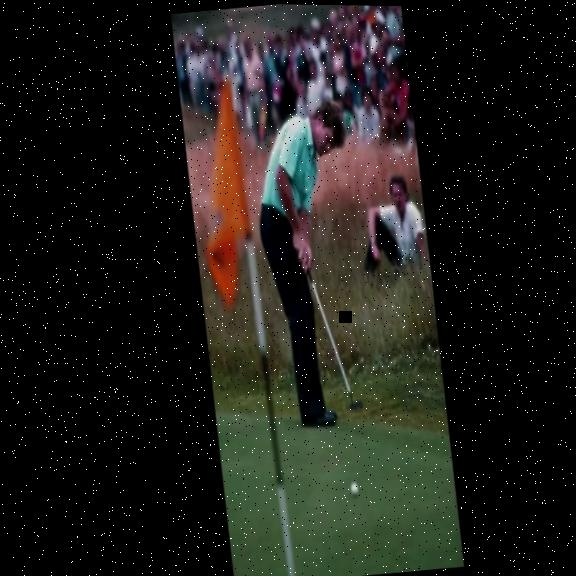GolfBall: (345, 474, 363, 500)
